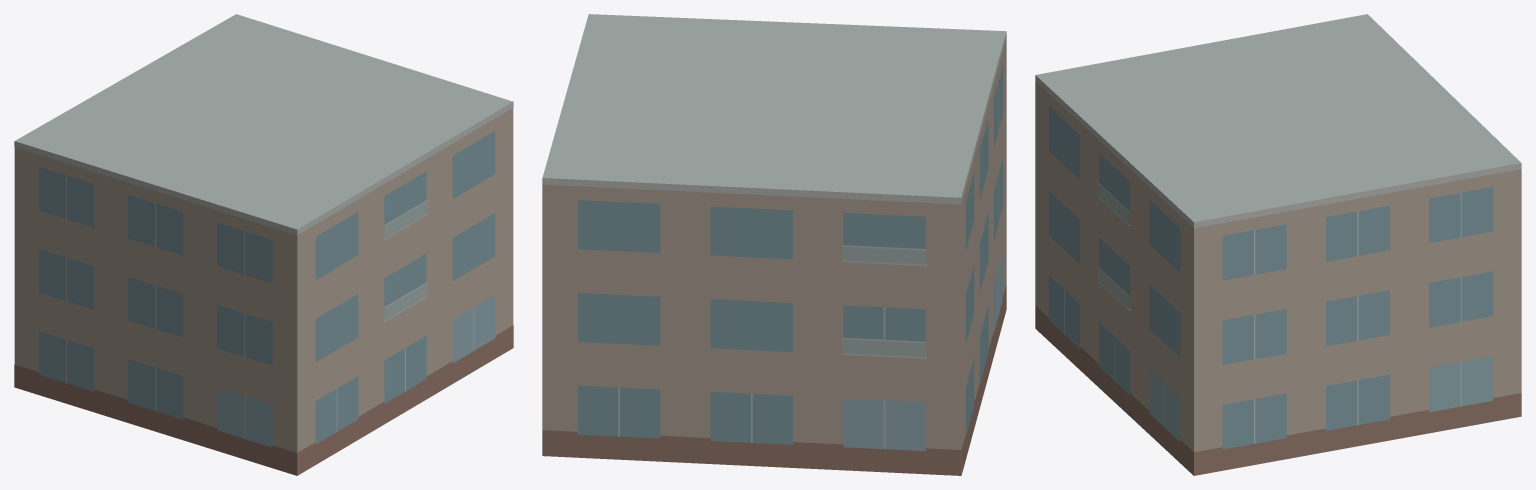
Rendered from survey-upis-33003609.glb.
The picture shows the model from 3 angles, left to right: view 1: azimuth 30°, elevation 25°; view 2: azimuth 150°, elevation 25°; view 3: azimuth 270°, elevation 25°; orthographic projection. The views are drawn at different scales.
Parts seen in each view (by area): view 1: survey-upis-33003609.tmp; view 2: survey-upis-33003609.tmp; view 3: survey-upis-33003609.tmp.
Boxes of the visible parts, x1,y1,x2,y2 form: survey-upis-33003609.tmp: [14, 14, 513, 475]; survey-upis-33003609.tmp: [542, 14, 1006, 475]; survey-upis-33003609.tmp: [1035, 14, 1521, 475].
Bounding box in the file's own units: 17.97 × 10.2 × 17.73.
